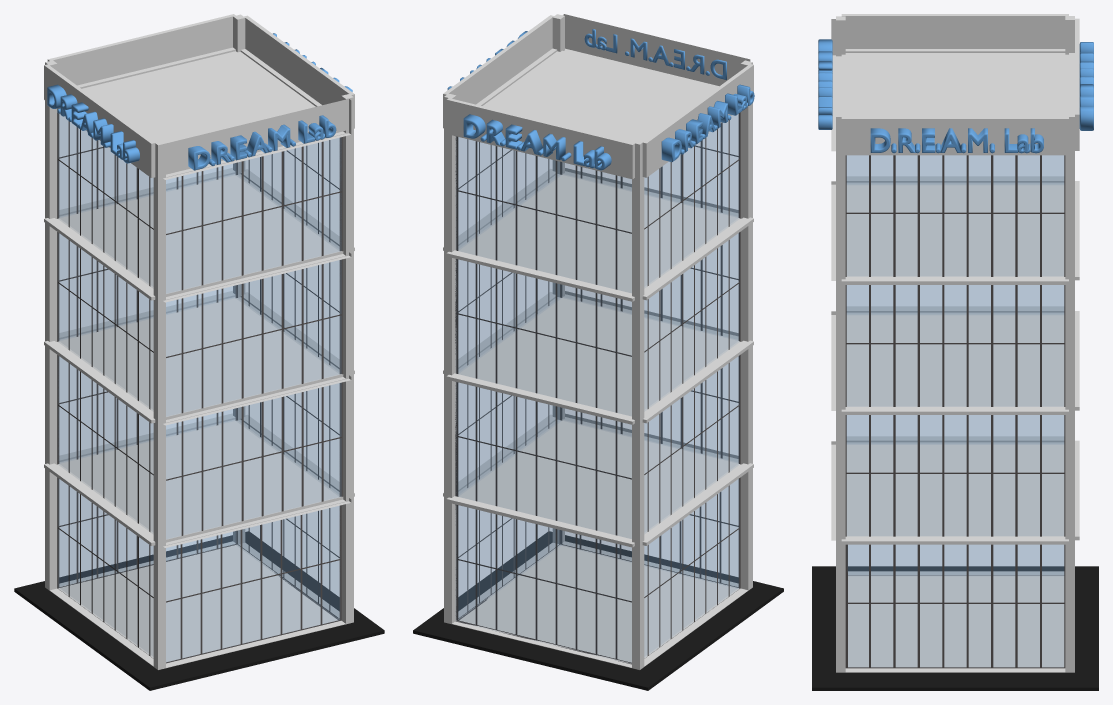
The model's file is EdificioDREAM.glb.
3 views of the same model, side by side, from view 1: azimuth 30°, elevation 25°; view 2: azimuth 150°, elevation 25°; view 3: azimuth 270°, elevation 25° (orthographic). The views are drawn at different scales.
Parts seen in each view (by area): view 1: Techo1.003, Techo1.002, Techo1, Techo1.001, Pared04, Pared02_2do.001, Pared02_2do, Pared02_2do.002, Base_edificio, Pared03, Pared03_2do.001, Pared03_2do (+16 smaller); view 2: Techo1.003, Techo1.001, Techo1, Techo1.002, Pared01, Pared01_2do.001, Pared01_2do, Pared01_2do.002, Base_edificio, Pared03, Pared03_2do.001, Pared03_2do (+17 smaller); view 3: Techo1.003, Pared02, Pared04_2do.001, Pared04_2do, Pared04_2do.002, Techo1, Techo1.001, Techo1.002, Base_edificio, Base, Pared03, Pared03_2do (+7 smaller).
Part boxes in pixels (left/top/right/bottom): Techo1.003: left=44, top=14, right=354, bottom=179; Techo1.002: left=44, top=168, right=354, bottom=302; Techo1: left=44, top=413, right=354, bottom=547; Techo1.001: left=44, top=291, right=354, bottom=425; Pared04: left=166, top=505, right=341, bottom=663; Pared02_2do.001: left=166, top=259, right=342, bottom=416; Pared02_2do: left=166, top=382, right=342, bottom=538; Pared02_2do.002: left=166, top=137, right=342, bottom=293; Base_edificio: left=45, top=541, right=353, bottom=669; Pared03: left=57, top=477, right=153, bottom=658; Pared03_2do.001: left=57, top=232, right=153, bottom=409; Pared03_2do: left=57, top=355, right=153, bottom=532; Techo1.003: left=443, top=14, right=753, bottom=179; Techo1.001: left=443, top=291, right=753, bottom=424; Techo1: left=443, top=413, right=753, bottom=547; Techo1.002: left=443, top=168, right=753, bottom=301; Pared01: left=455, top=504, right=631, bottom=664; Pared01_2do.001: left=455, top=259, right=631, bottom=415; Pared01_2do: left=455, top=382, right=631, bottom=538; Pared01_2do.002: left=455, top=136, right=631, bottom=292; Base_edificio: left=444, top=541, right=752, bottom=669; Pared03: left=644, top=478, right=739, bottom=658; Pared03_2do.001: left=644, top=232, right=740, bottom=409; Pared03_2do: left=644, top=355, right=740, bottom=531; Techo1.003: left=831, top=14, right=1079, bottom=155; Pared02: left=845, top=544, right=1065, bottom=668; Pared04_2do.001: left=845, top=285, right=1065, bottom=406; Pared04_2do: left=845, top=415, right=1065, bottom=536; Pared04_2do.002: left=845, top=155, right=1065, bottom=276; Techo1: left=831, top=436, right=1079, bottom=544; Techo1.001: left=831, top=306, right=1079, bottom=414; Techo1.002: left=831, top=176, right=1079, bottom=284; Base_edificio: left=836, top=571, right=1074, bottom=672; Base: left=812, top=566, right=1098, bottom=690; Pared03: left=848, top=545, right=1063, bottom=575; Pared03_2do: left=847, top=415, right=1063, bottom=443.
Size of the model in its own units: 300 by 651 by 300.
